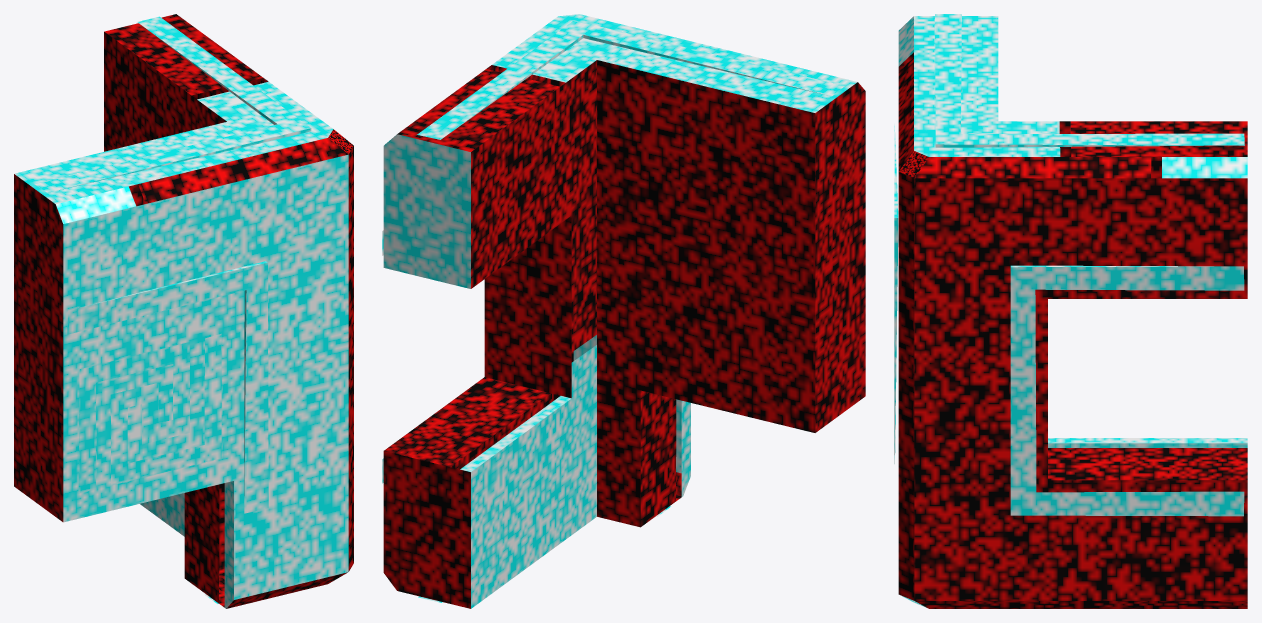
File: SM_MonadBless_Separate_02_GDH.fbx
3 views of the same model, side by side, from view 1: azimuth 30°, elevation 25°; view 2: azimuth 150°, elevation 25°; view 3: azimuth 270°, elevation 25° (orthographic). The views are drawn at different scales.
Parts seen in each view (by area): view 1: SM_MonadBless_Separate_02_GDH; view 2: SM_MonadBless_Separate_02_GDH; view 3: SM_MonadBless_Separate_02_GDH.
Boxes of the visible parts, box(x1,y1,x2,y2) form: SM_MonadBless_Separate_02_GDH: box(14, 14, 353, 608); SM_MonadBless_Separate_02_GDH: box(382, 14, 865, 608); SM_MonadBless_Separate_02_GDH: box(894, 14, 1247, 608).
Size of the model in its own units: 14.3 by 20.52 by 14.31.
